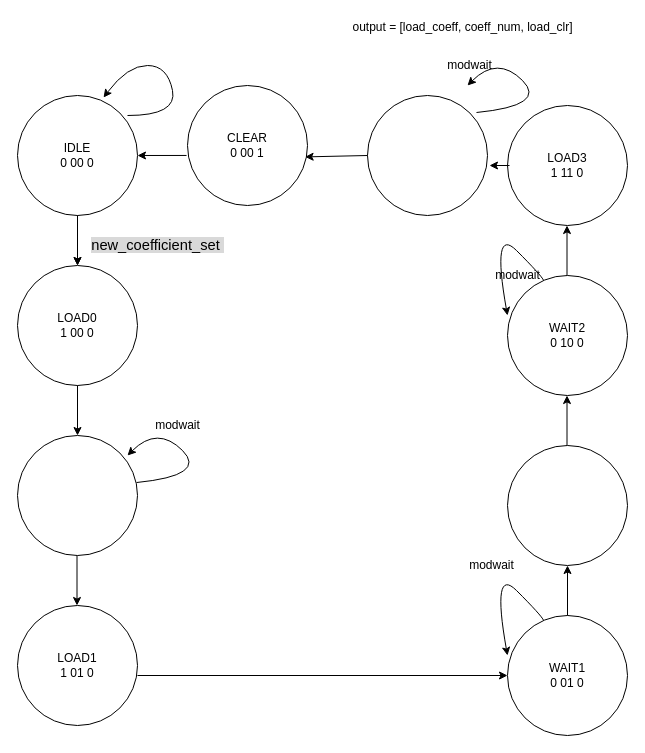
Some shapes in this 645 by 753 pixel diagram are drawn without their labels. Here are the shapes that lost their labels. From the top down, the centre of each, then its label:
At (427,155): "WAIT3 0 11 0".
At (77,495): "WAIT0 0 00 0".
At (567,505): "LOAD2 1 10 0".
